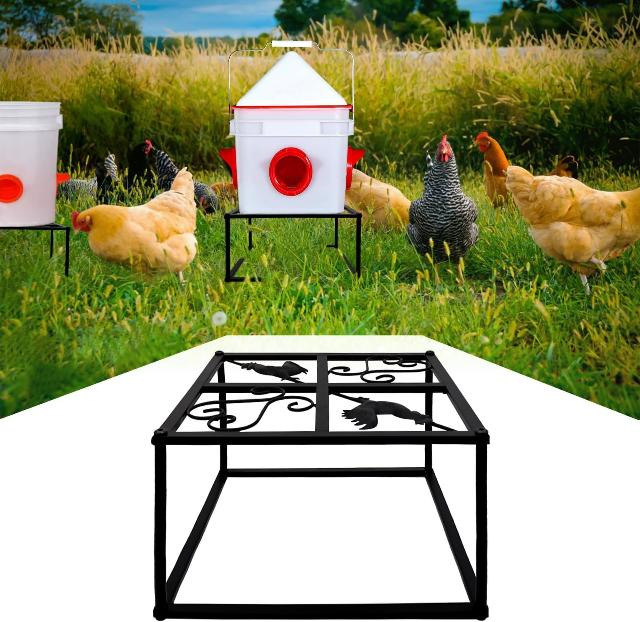Chicken: (505, 153, 640, 292), (68, 166, 204, 286), (409, 132, 482, 271), (344, 148, 418, 236), (472, 119, 541, 213)
